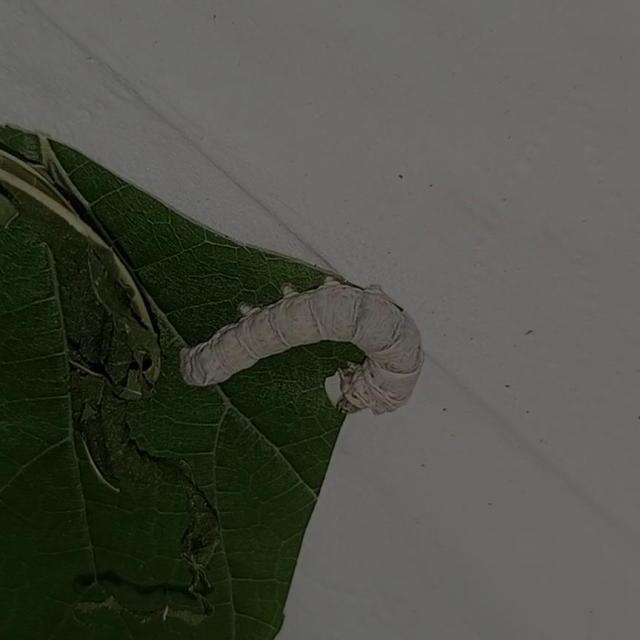Healthy: (169, 258, 432, 436)
